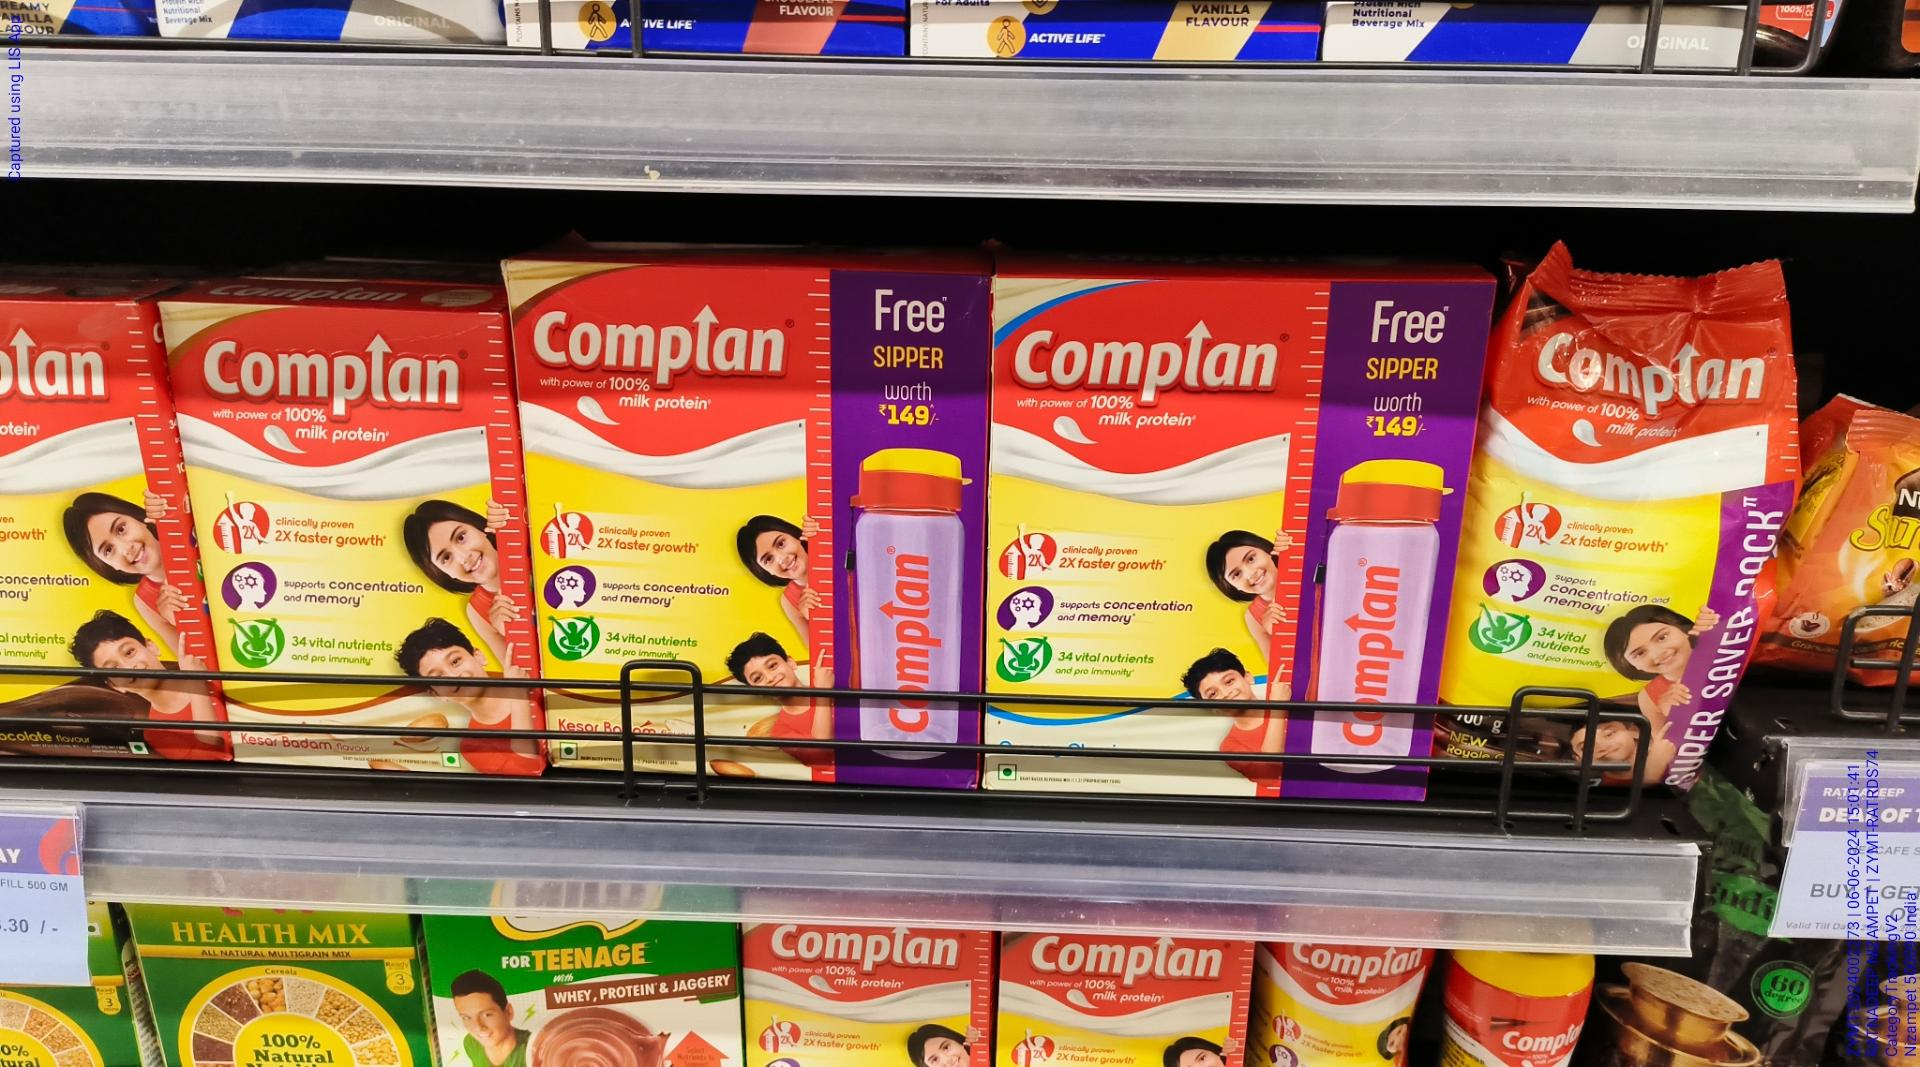COMPLAN_KESAR_BADAM_500_GMS_PACK: (162, 300, 507, 799)
COMPLAN_RC_POUCH_700_GMS_12: (1476, 246, 1790, 824)
